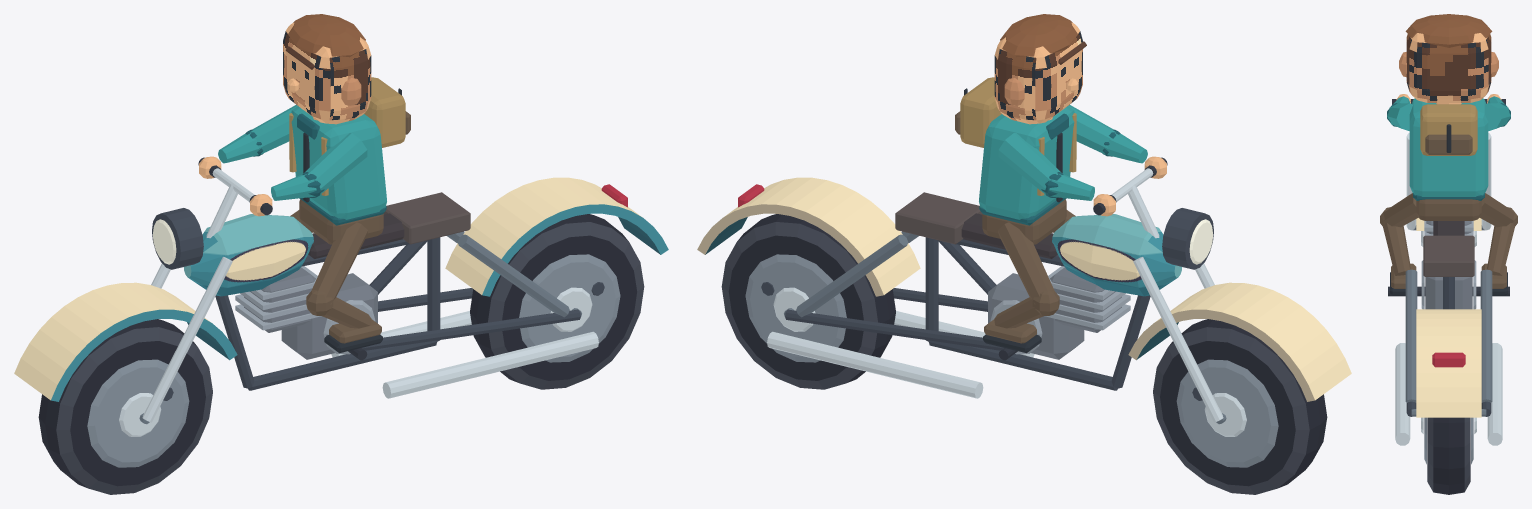
The picture shows the model from 3 angles, left to right: view 1: azimuth 30°, elevation 25°; view 2: azimuth 150°, elevation 25°; view 3: azimuth 270°, elevation 25°; orthographic projection. The views are drawn at different scales.
Visible parts, largest first — view 1: Body_static, RiderExplorer:Explorer_static_seated, Wheel_F_tire_hub, Wheel_R_tire_hub; view 2: Body_static, RiderExplorer:Explorer_static_seated, Wheel_F_tire_hub, Wheel_R_tire_hub; view 3: RiderExplorer:Explorer_static_seated, Body_static, Wheel_R_tire_hub.
Boxes of the visible parts, bbox=[...] form: Body_static: bbox=[14, 157, 668, 424]; RiderExplorer:Explorer_static_seated: bbox=[199, 14, 410, 353]; Wheel_F_tire_hub: bbox=[38, 319, 212, 494]; Wheel_R_tire_hub: bbox=[470, 214, 644, 389]; Body_static: bbox=[697, 157, 1351, 424]; RiderExplorer:Explorer_static_seated: bbox=[955, 14, 1166, 353]; Wheel_F_tire_hub: bbox=[1153, 319, 1327, 494]; Wheel_R_tire_hub: bbox=[721, 214, 895, 389]; RiderExplorer:Explorer_static_seated: bbox=[1380, 14, 1517, 295]; Body_static: bbox=[1388, 99, 1509, 445]; Wheel_R_tire_hub: bbox=[1421, 417, 1476, 494].
Size of the model in its own units: 55.84 by 35.91 by 12.17.
Materials: 2 (2 with a texture image).
